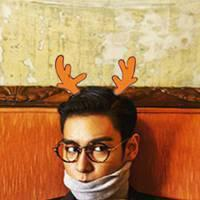WRONG: (59, 131, 127, 199)
